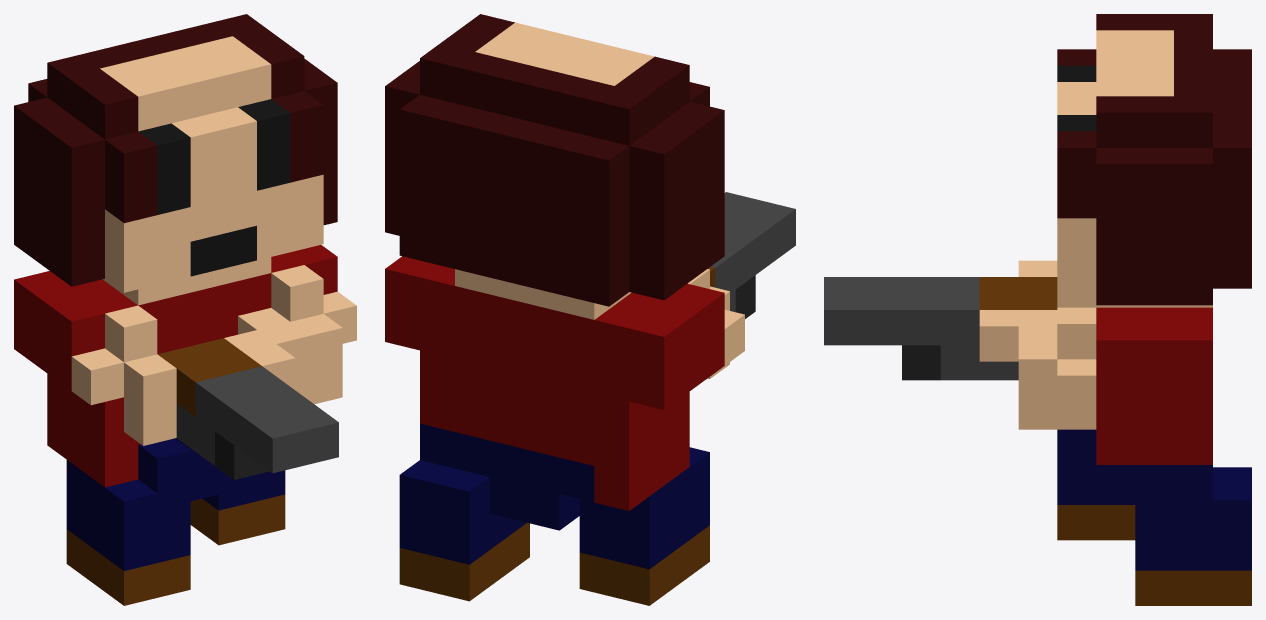
The model's file is Prototype Player Model.obj.
3 renders of one model, left to right at view 1: azimuth 30°, elevation 25°; view 2: azimuth 150°, elevation 25°; view 3: azimuth 270°, elevation 25°, orthographic. The views are drawn at different scales.
Size of the model in its own units: 0.8 by 1.4 by 1.1.
